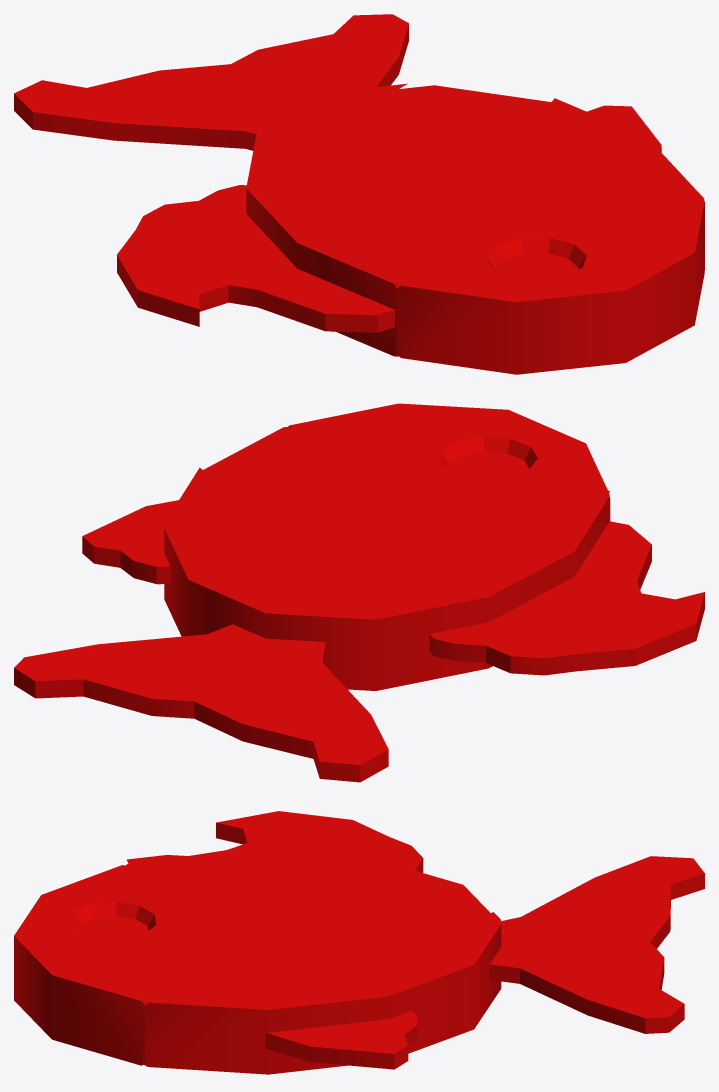
Rendered from Asset_Lure.glb.
3 renders of one model, top to bottom at view 1: azimuth 30°, elevation 25°; view 2: azimuth 150°, elevation 25°; view 3: azimuth 270°, elevation 25°, orthographic. The views are drawn at different scales.
Visible parts, largest first — view 1: Asset_Lure; view 2: Asset_Lure; view 3: Asset_Lure.
Boxes of the visible parts, x1,y1,x2,y2 form: Asset_Lure: (14,14,704,374); Asset_Lure: (14,403,704,782); Asset_Lure: (14,811,704,1074).
Size of the model in its own units: 0.332 by 0.0458 by 0.399.
